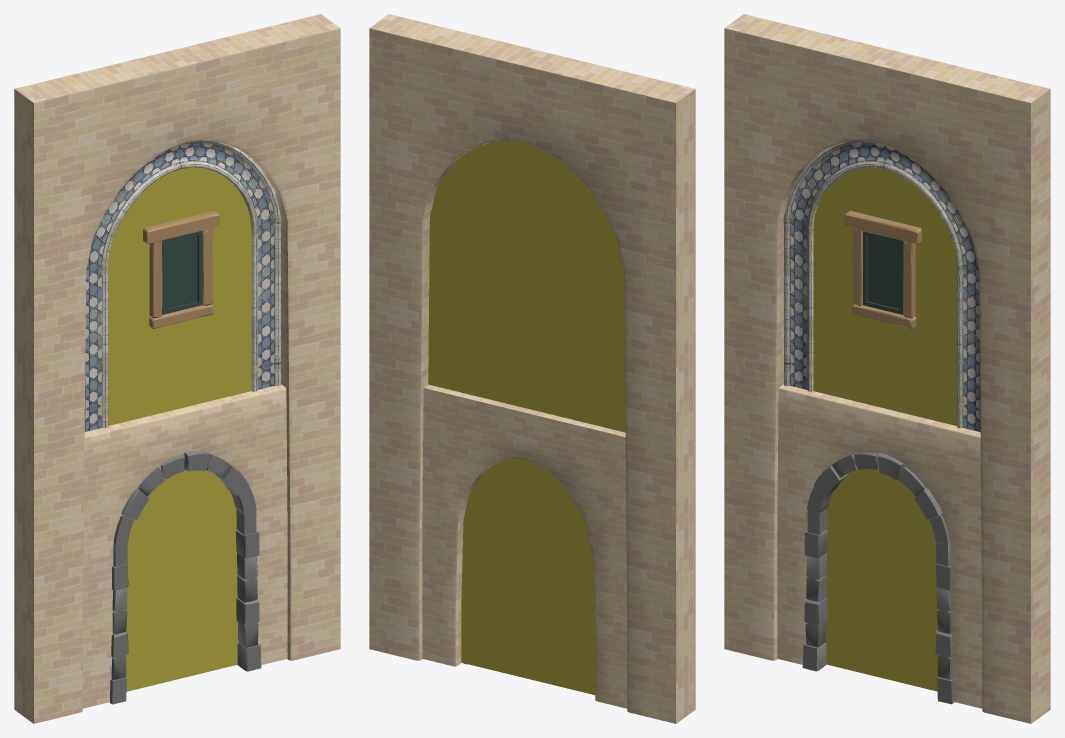
Rendered from SM_wall_module_01.fbx.
The picture shows the model from 3 angles, left to right: view 1: azimuth 30°, elevation 25°; view 2: azimuth 150°, elevation 25°; view 3: azimuth 330°, elevation 25°; orthographic projection.
Parts seen in each view (by area): view 1: Plane099; view 2: Plane099; view 3: Plane099.
Boxes of the visible parts, <box> form: Plane099: <box>14,14,340,723</box>; Plane099: <box>369,14,695,723</box>; Plane099: <box>724,14,1050,723</box>.
Bounding box in the file's own units: 208 × 402 × 23.28.
